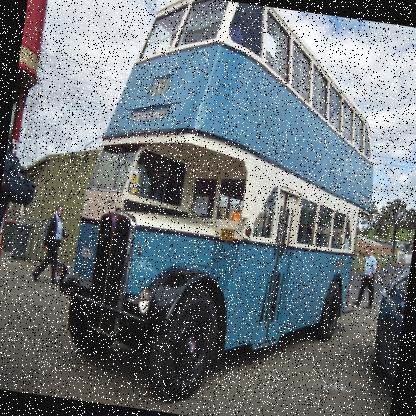Car: (367, 263, 409, 398)
